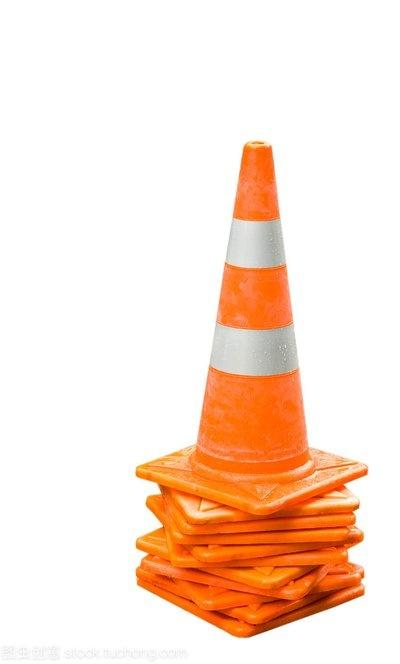cone_barrel: (186, 137, 323, 476)
